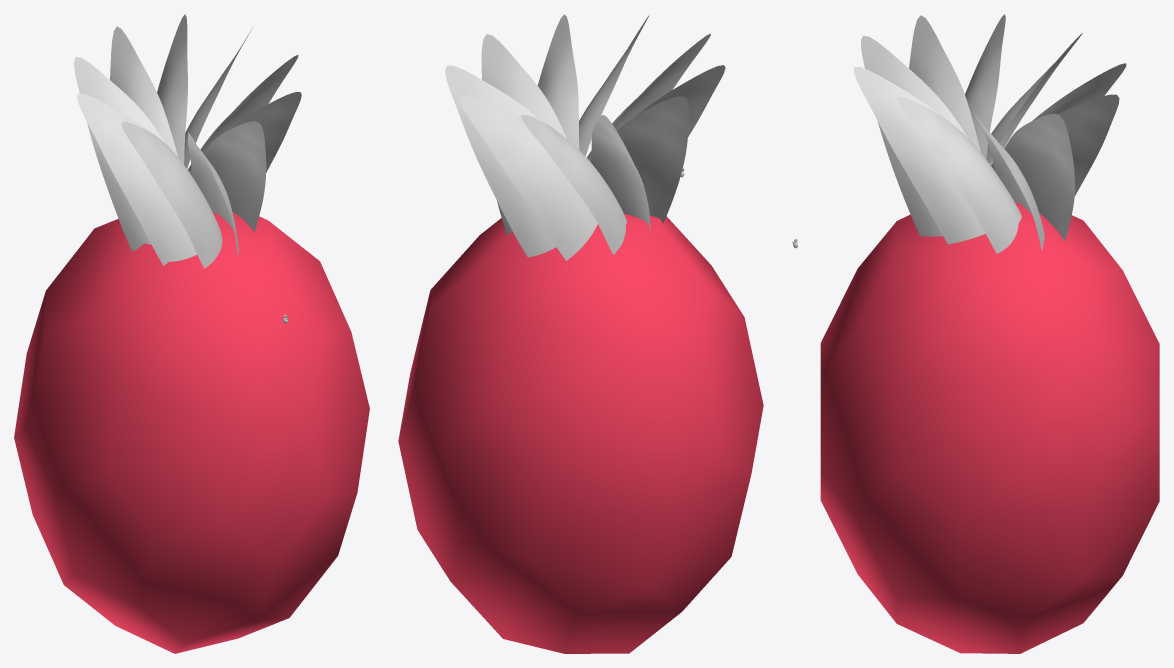
The model's file is pinecollada.dae.
3 renders of one model, left to right at view 1: azimuth 30°, elevation 25°; view 2: azimuth 150°, elevation 25°; view 3: azimuth 270°, elevation 25°, orthographic. The views are drawn at different scales.
Parts seen in each view (by area): view 1: Platonic, Polygon_9, Polygon_8, Polygon_6, Polygon, Polygon_1, Polygon_2, Polygon_5, Polygon_7, Polygon_4, Polygon_3; view 2: Platonic, Polygon_2, Polygon_9, Polygon_3, Polygon_1, Polygon, Polygon_5, Polygon_4, Polygon_7, Polygon_8, Polygon_6; view 3: Platonic, Polygon_6, Polygon_5, Polygon_3, Polygon_7, Polygon_8, Polygon_2, Polygon_9, Polygon_4, Polygon, Polygon_1.
Part boxes in pixels (left/top/right/bottom): Platonic: left=14, top=211, right=369, bottom=653; Polygon_9: left=77, top=93, right=196, bottom=265; Polygon_8: left=121, top=122, right=222, bottom=268; Polygon_6: left=203, top=121, right=266, bottom=232; Polygon: left=74, top=57, right=165, bottom=251; Polygon_1: left=110, top=26, right=177, bottom=231; Polygon_2: left=157, top=14, right=187, bottom=164; Polygon_5: left=191, top=92, right=301, bottom=174; Polygon_7: left=187, top=132, right=238, bottom=256; Polygon_4: left=188, top=55, right=298, bottom=173; Polygon_3: left=184, top=28, right=252, bottom=168; Platonic: left=398, top=213, right=763, bottom=653; Polygon_2: left=459, top=96, right=597, bottom=260; Polygon_9: left=617, top=96, right=688, bottom=223; Polygon_3: left=445, top=65, right=556, bottom=257; Polygon_1: left=520, top=114, right=627, bottom=254; Polygon: left=591, top=115, right=650, bottom=235; Polygon_5: left=537, top=14, right=579, bottom=149; Polygon_4: left=481, top=34, right=566, bottom=235; Polygon_7: left=587, top=33, right=710, bottom=161; Polygon_8: left=635, top=65, right=725, bottom=136; Polygon_6: left=579, top=15, right=649, bottom=156; Platonic: left=820, top=202, right=1159, bottom=653; Polygon_6: left=853, top=67, right=985, bottom=244; Polygon_5: left=897, top=96, right=1021, bottom=253; Polygon_3: left=1004, top=113, right=1074, bottom=241; Polygon_7: left=861, top=35, right=967, bottom=236; Polygon_8: left=909, top=15, right=980, bottom=152; Polygon_2: left=993, top=94, right=1119, bottom=196; Polygon_9: left=965, top=14, right=1005, bottom=159; Polygon_4: left=974, top=114, right=1044, bottom=251; Polygon: left=986, top=33, right=1082, bottom=165; Polygon_1: left=991, top=63, right=1126, bottom=168.
Bounding box in the file's own units: 549 × 569 × 973.
